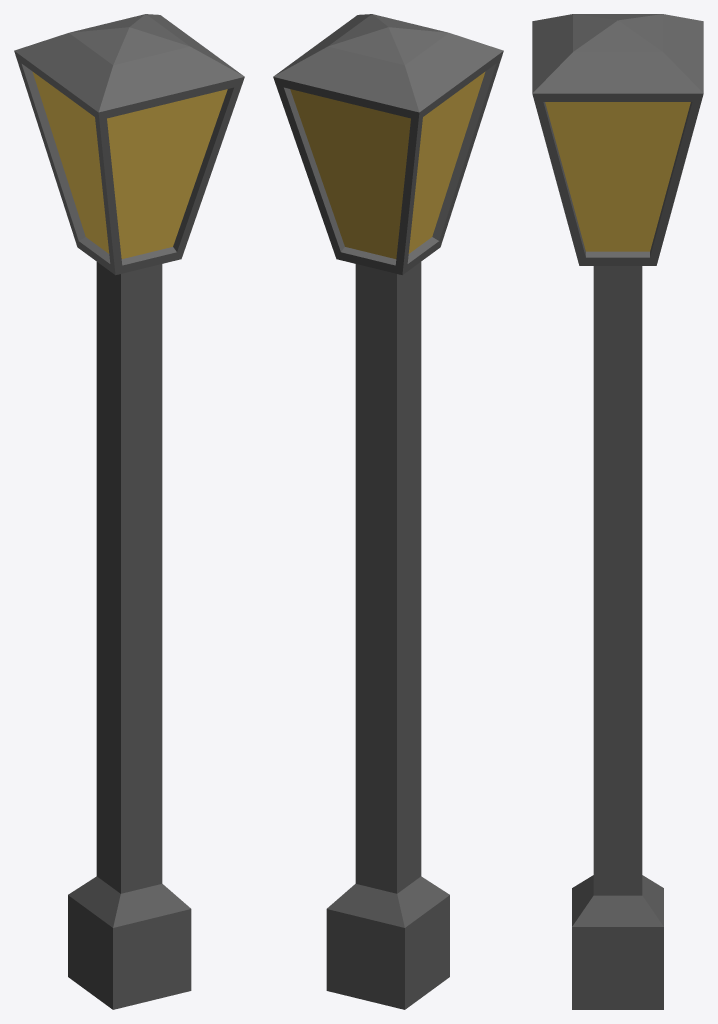
The model's file is WholeLamppost.fbx.
The picture shows the model from 3 angles, left to right: view 1: azimuth 30°, elevation 25°; view 2: azimuth 150°, elevation 25°; view 3: azimuth 270°, elevation 25°; orthographic projection.
Parts seen in each view (by area): view 1: Cube.001, Cube; view 2: Cube.001, Cube; view 3: Cube.001, Cube.
Boxes of the visible parts, x1,y1,x2,y2 form: Cube.001: (68,262,191,1009); Cube: (14,14,244,275); Cube.001: (326,262,449,1009); Cube: (273,14,503,275); Cube.001: (572,266,663,1009); Cube: (532,14,703,265).
Size of the model in its own units: 168 by 1049 by 168.
